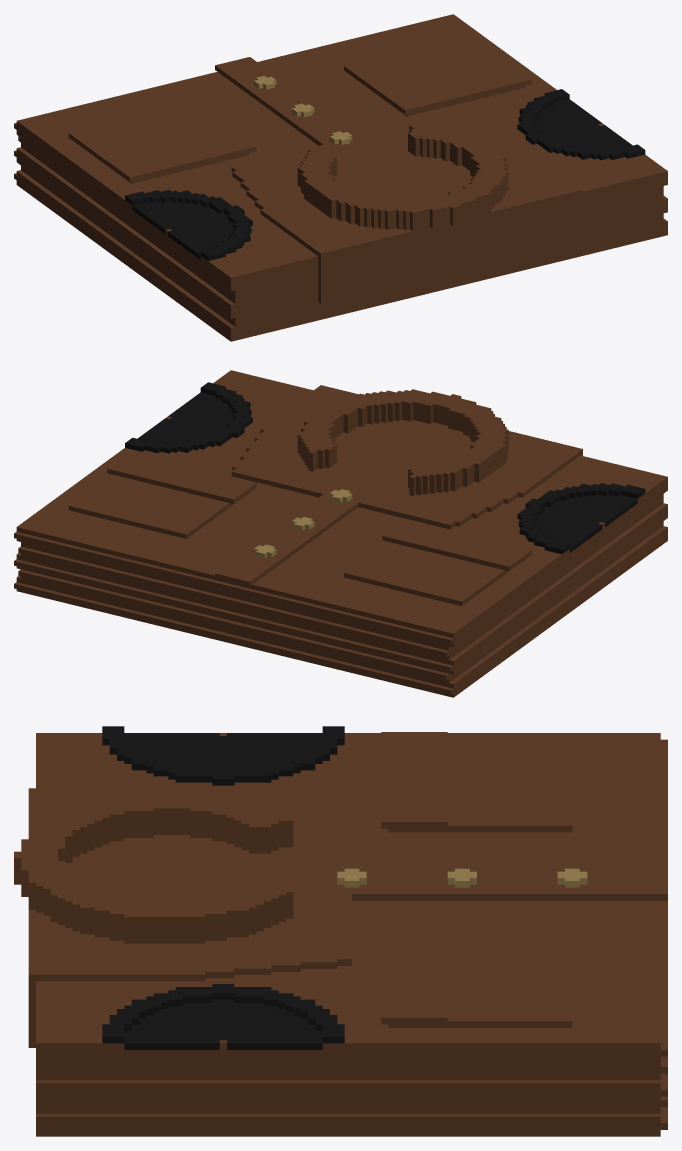
File: sleeveless_duster_leather.glb
3 views of the same model, one above another, from view 1: azimuth 30°, elevation 25°; view 2: azimuth 150°, elevation 25°; view 3: azimuth 270°, elevation 25° (orthographic). The views are drawn at different scales.
Visible parts, largest first — view 1: sleeveless_duster_leather:compound; view 2: sleeveless_duster_leather:compound; view 3: sleeveless_duster_leather:compound.
Boxes of the visible parts, x1=… form: sleeveless_duster_leather:compound: x1=14, y1=14, x2=667, y2=341; sleeveless_duster_leather:compound: x1=14, y1=370, x2=667, y2=697; sleeveless_duster_leather:compound: x1=14, y1=726, x2=667, y2=1136.
Bounding box in the file's own units: 0.4 × 0.076 × 0.356.
